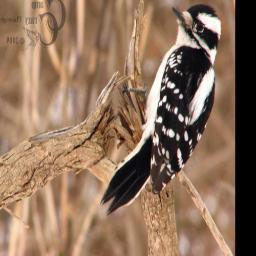Woodpecker: (99, 3, 223, 222)
